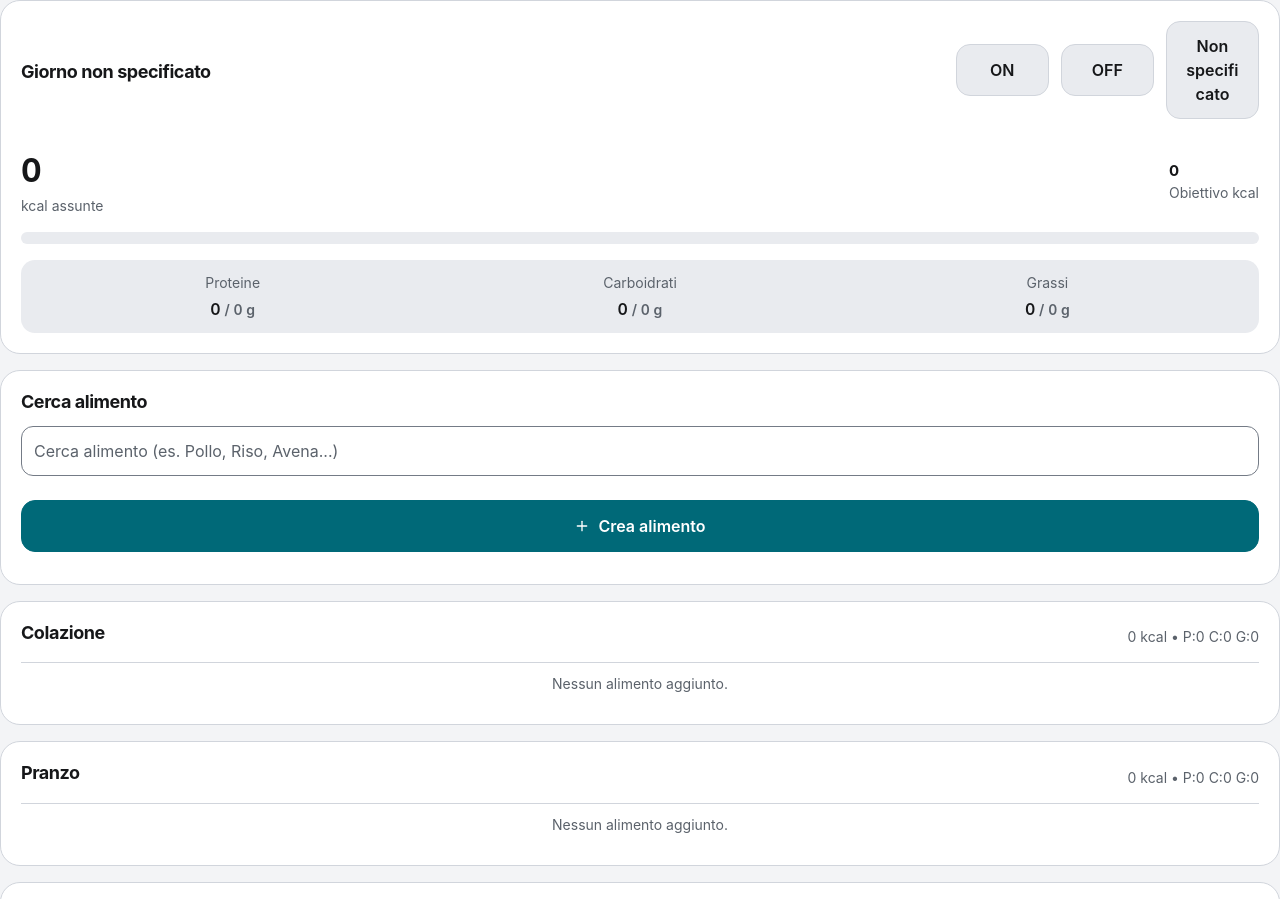
Empirical Challenger Suite: Edge Cases & Stress Verification › 5. Component Boundary States & Stress Inputs › NutritionMeals handles literal regex metacharacters and still finds a known food
The image size is (1280, 899).
In the search field with placeholder "Cerca alimento (es. Pollo, Riso, Avena...)": (640, 450) [21,426,1259,476], type "[.*+?^$()|[\\]\\\\]"
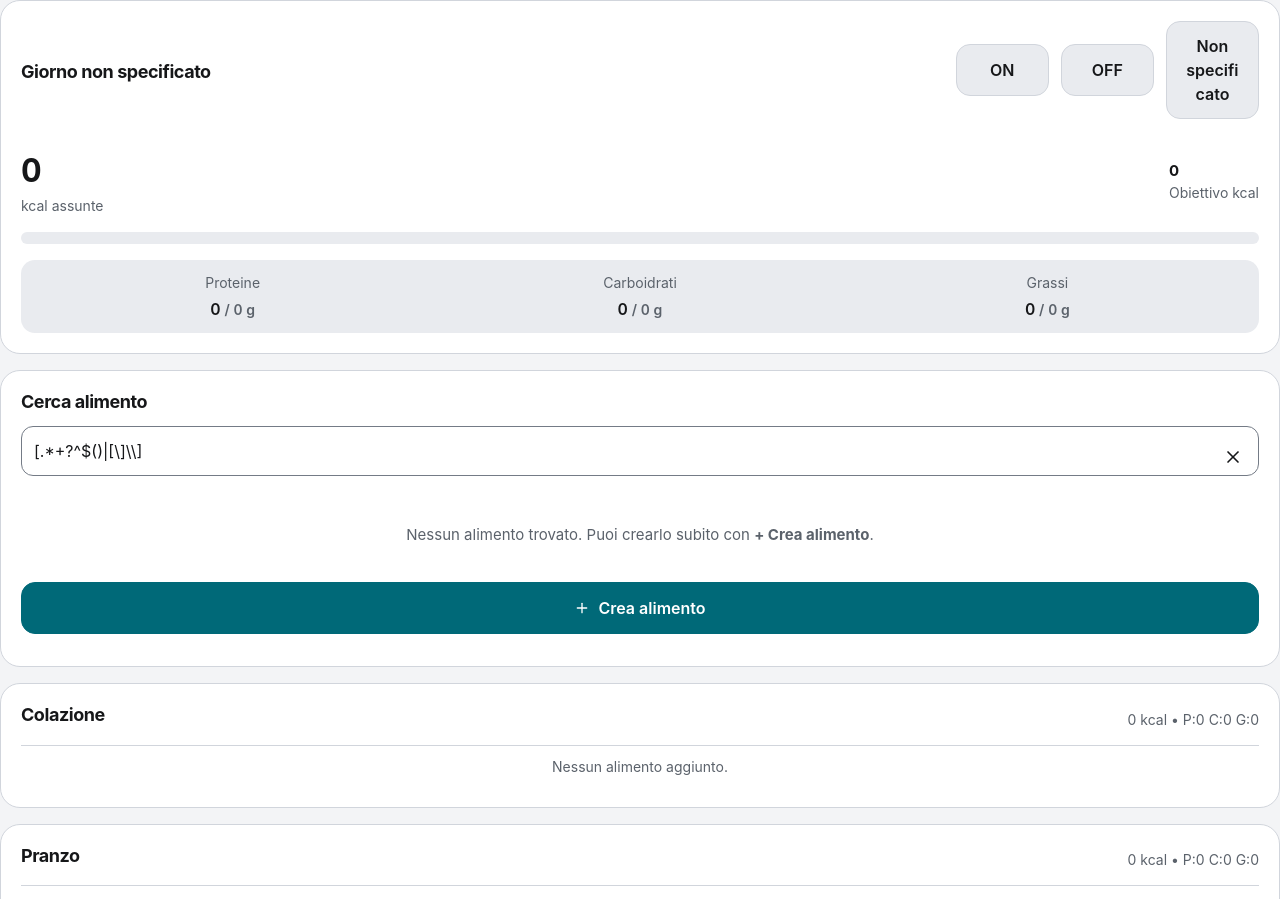
Expected: the message shows "Nessun alimento trovato", [406,524,754,544]
Replace the text in the search field with placeholder "Cerca alimento (es. Pollo, Riso, Avena...)" with "Pollo": (640, 450) [21,426,1259,476]
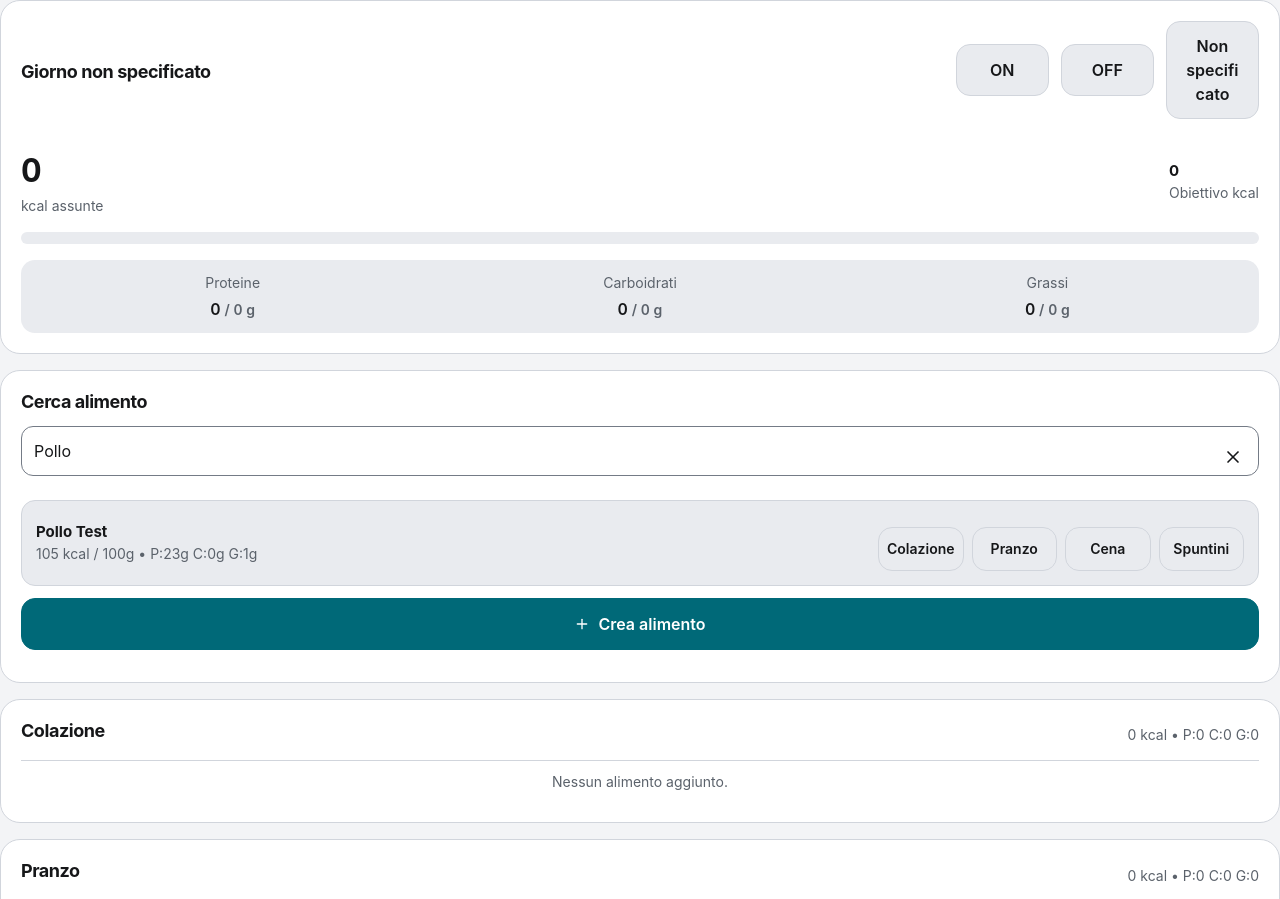
Expected: the text "Pollo Test" is shown, [36,521,107,543]
Expected: the message "Nessun alimento trovato. Puoi crearlo subito con + Crea alimento." is gone
